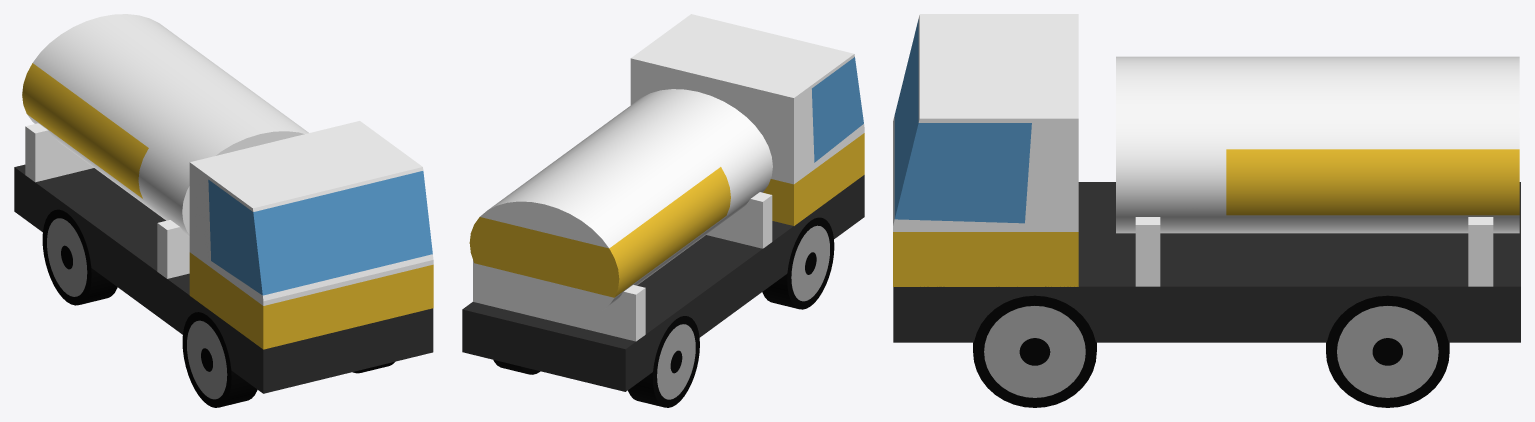
The model's file is tank-lkw.dae.
3 views of the same model, side by side, from view 1: azimuth 30°, elevation 25°; view 2: azimuth 150°, elevation 25°; view 3: azimuth 270°, elevation 25° (orthographic). The views are drawn at different scales.
Visible parts, largest first — view 1: Cube.2; view 2: Cube.2; view 3: Cube.2.
Boxes of the visible parts, x1,y1,x2,y2 form: Cube.2: [14, 14, 433, 407]; Cube.2: [462, 14, 864, 407]; Cube.2: [893, 14, 1520, 407].
Bounding box in the file's own units: 200 × 258 × 507.
